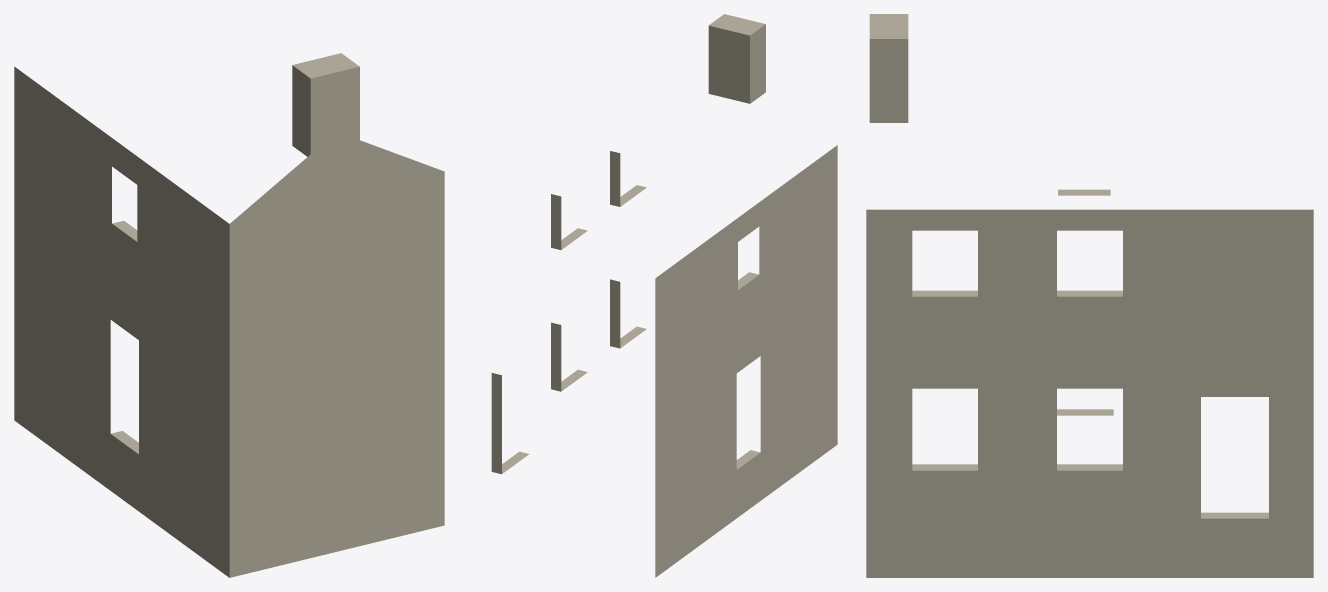
Rendered from SM_Bld_211_Render.glb.
3 views of the same model, side by side, from view 1: azimuth 30°, elevation 25°; view 2: azimuth 150°, elevation 25°; view 3: azimuth 270°, elevation 25° (orthographic). The views are drawn at different scales.
Visible parts, largest first — view 1: SM_Bld_211_Render; view 2: SM_Bld_211_Render; view 3: SM_Bld_211_Render.
Part boxes in pixels (x1=…): SM_Bld_211_Render: x1=14, y1=53, x2=444, y2=577; SM_Bld_211_Render: x1=491, y1=14, x2=837, y2=577; SM_Bld_211_Render: x1=866, y1=14, x2=1313, y2=577.
Bounding box in the file's own units: 3.94 × 8.37 × 6.83.
